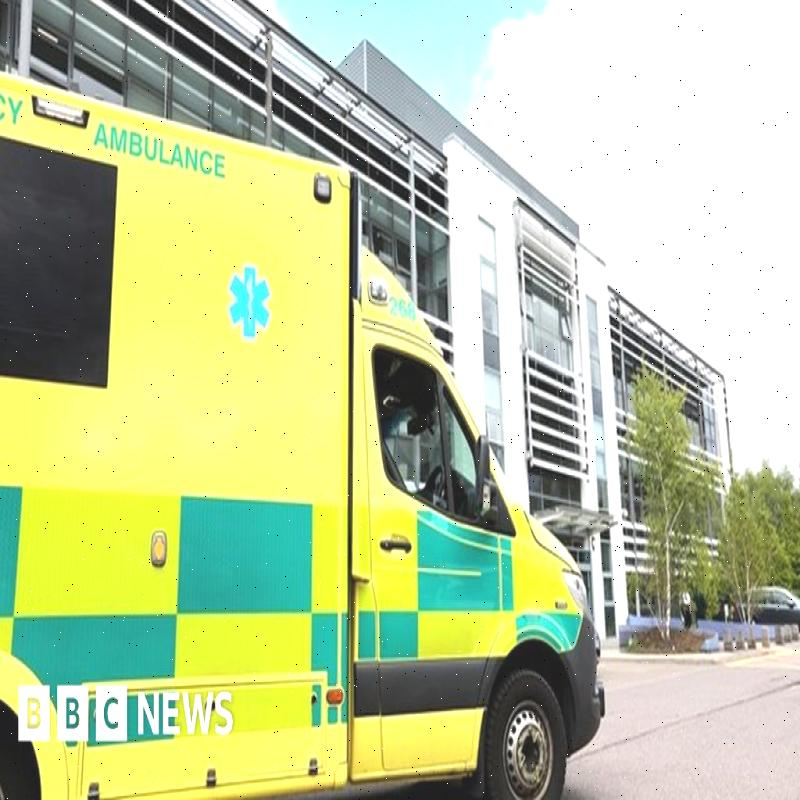ambulance: (6, 65, 610, 800)
